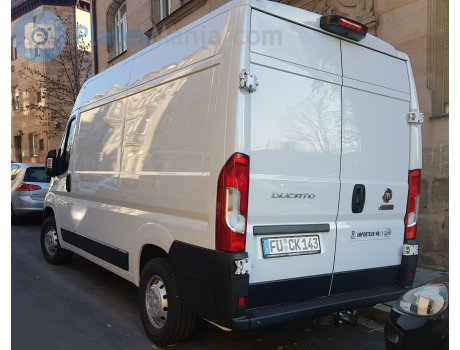License Plates: (260, 234, 328, 259)
